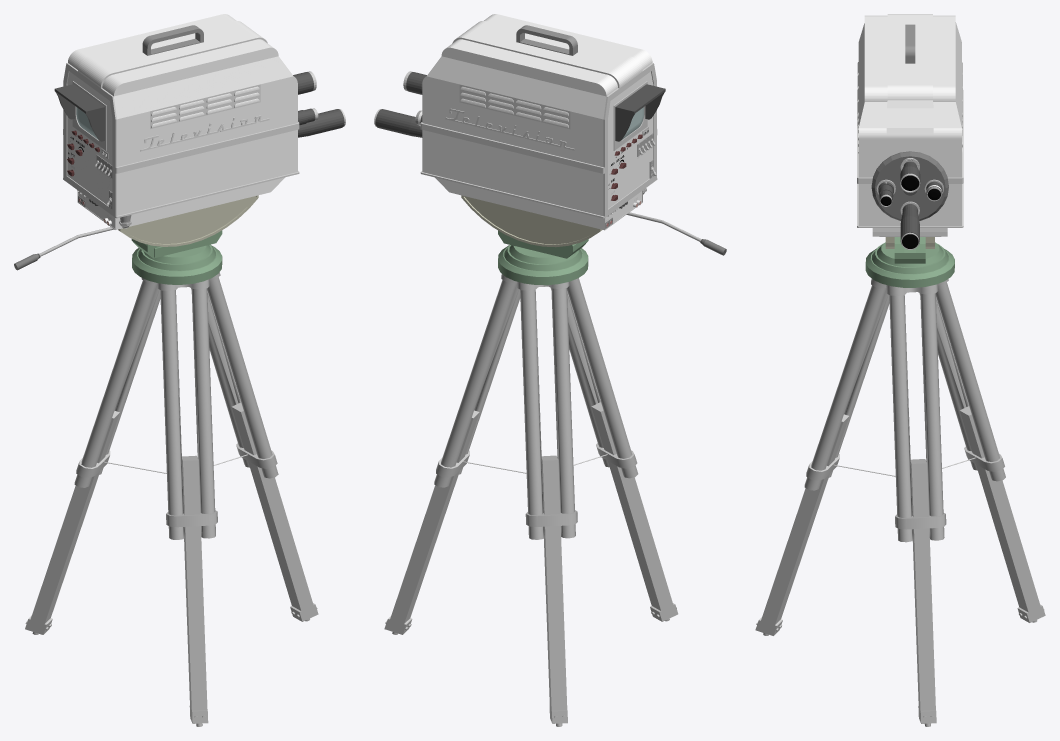
The model's file is TV Camera.fbx.
3 views of the same model, side by side, from view 1: azimuth 30°, elevation 25°; view 2: azimuth 150°, elevation 25°; view 3: azimuth 270°, elevation 25° (orthographic).
Parts seen in each view (by area): view 1: TV Camera, Component_18_001, Component_18_003, Tripod, Group_003, Component9_001, Component22_001; view 2: TV Camera, Tripod, Component_18_001, Component_18_003, Group_003, Component9_001, Component22_002; view 3: TV Camera, Component_18_003, Tripod, Component_18_001, Component9_001, Group_003.
Part boxes in pixels (x1=…): TV Camera: x1=14, y1=14, x2=299, y2=270; Component_18_001: x1=157, y1=279, x2=217, y2=726; Component_18_003: x1=191, y1=272, x2=318, y2=621; Tripod: x1=25, y1=278, x2=166, y2=634; Group_003: x1=132, y1=244, x2=222, y2=284; Component9_001: x1=293, y1=71, x2=345, y2=137; Component22_001: x1=140, y1=115, x2=269, y2=151; TV Camera: x1=420, y1=14, x2=726, y2=258; Tripod: x1=517, y1=282, x2=577, y2=726; Component_18_001: x1=550, y1=278, x2=678, y2=621; Component_18_003: x1=384, y1=274, x2=526, y2=634; Group_003: x1=498, y1=245, x2=588, y2=285; Component9_001: x1=374, y1=71, x2=426, y2=137; Component22_002: x1=445, y1=108, x2=574, y2=150; TV Camera: x1=857, y1=14, x2=963, y2=263; Component_18_003: x1=886, y1=284, x2=946, y2=726; Tripod: x1=919, y1=279, x2=1045, y2=622; Component_18_001: x1=755, y1=279, x2=895, y2=635; Component9_001: x1=871, y1=151, x2=948, y2=249; Group_003: x1=865, y1=242, x2=954, y2=287.
Bounding box in the file's own units: 151 × 270 × 114.
